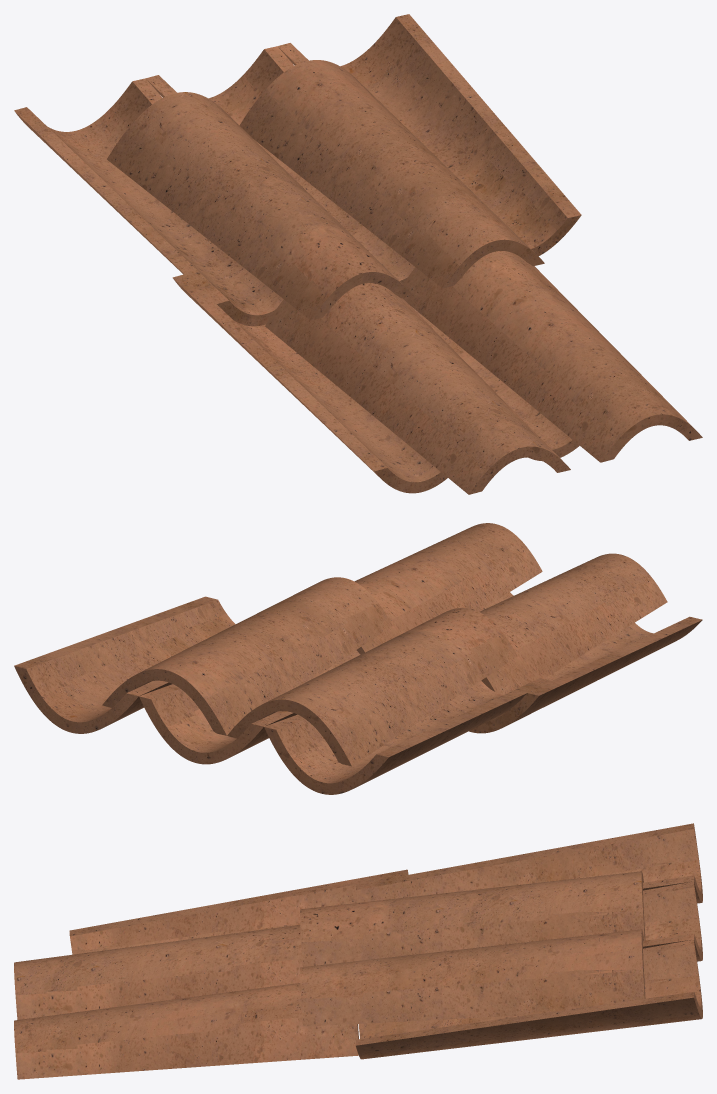
Rendered from uploads_files_5986609_traditional+clay+rooftiles.fbx.
3 views of the same model, one above another, from view 1: azimuth 30°, elevation 25°; view 2: azimuth 150°, elevation 25°; view 3: azimuth 270°, elevation 25° (orthographic). The views are drawn at different scales.
Parts seen in each view (by area): view 1: coppi rooftile; view 2: coppi rooftile; view 3: coppi rooftile.
Boxes of the visible parts, box(x1,y1,x2,y2) form: coppi rooftile: box(14, 14, 702, 494); coppi rooftile: box(14, 523, 702, 794); coppi rooftile: box(14, 823, 702, 1079).
Bounding box in the file's own units: 0.54 × 0.9023 × 0.2006.
1 material, 1 textured.
